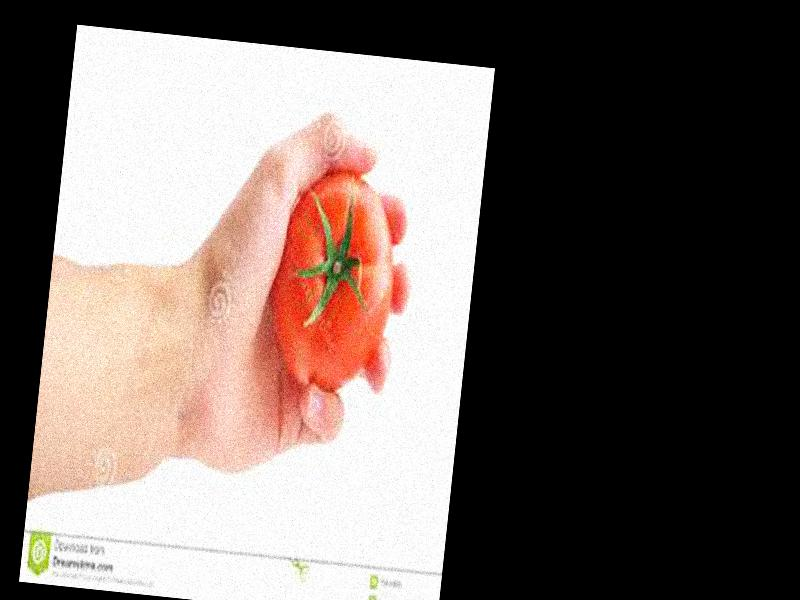Tomato: (265, 169, 403, 398)
